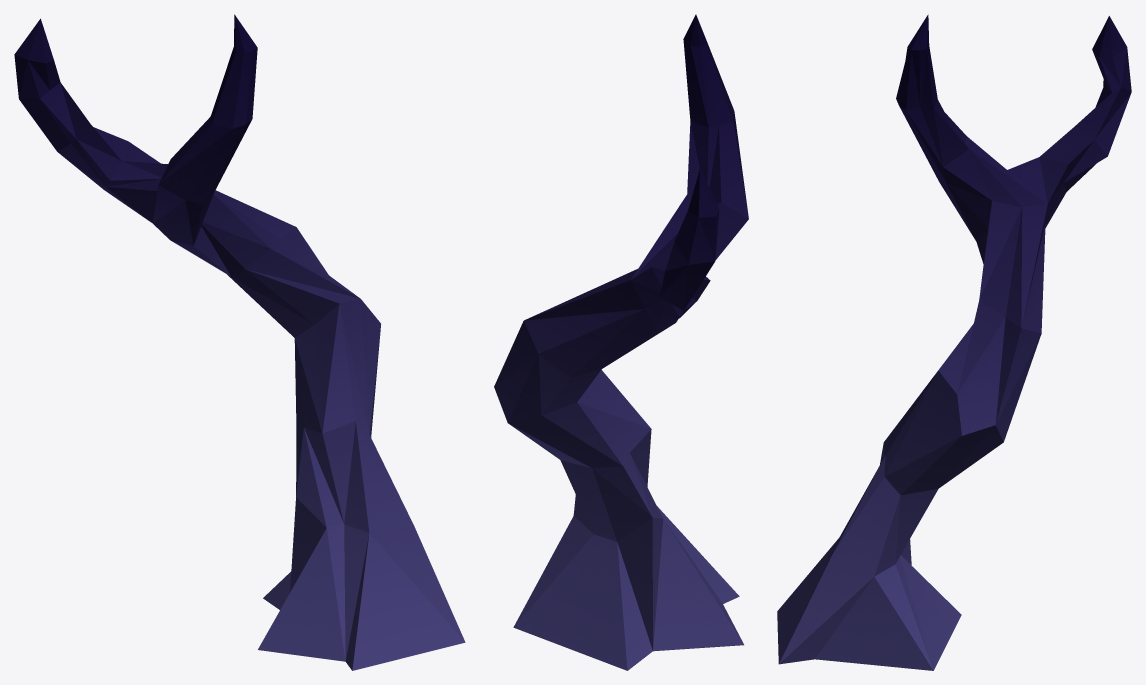
Rendered from MOD_Waypoint (8).fbx.
The picture shows the model from 3 angles, left to right: view 1: azimuth 30°, elevation 25°; view 2: azimuth 150°, elevation 25°; view 3: azimuth 270°, elevation 25°; orthographic projection. The views are drawn at different scales.
Visible parts, largest first — view 1: MOD_Waypoint8; view 2: MOD_Waypoint8; view 3: MOD_Waypoint8.
Boxes of the visible parts, x1=… form: MOD_Waypoint8: x1=14, y1=14, x2=465, y2=670; MOD_Waypoint8: x1=494, y1=14, x2=748, y2=670; MOD_Waypoint8: x1=777, y1=14, x2=1131, y2=670.
Bounding box in the file's own units: 4.89 × 9.93 × 5.51.
